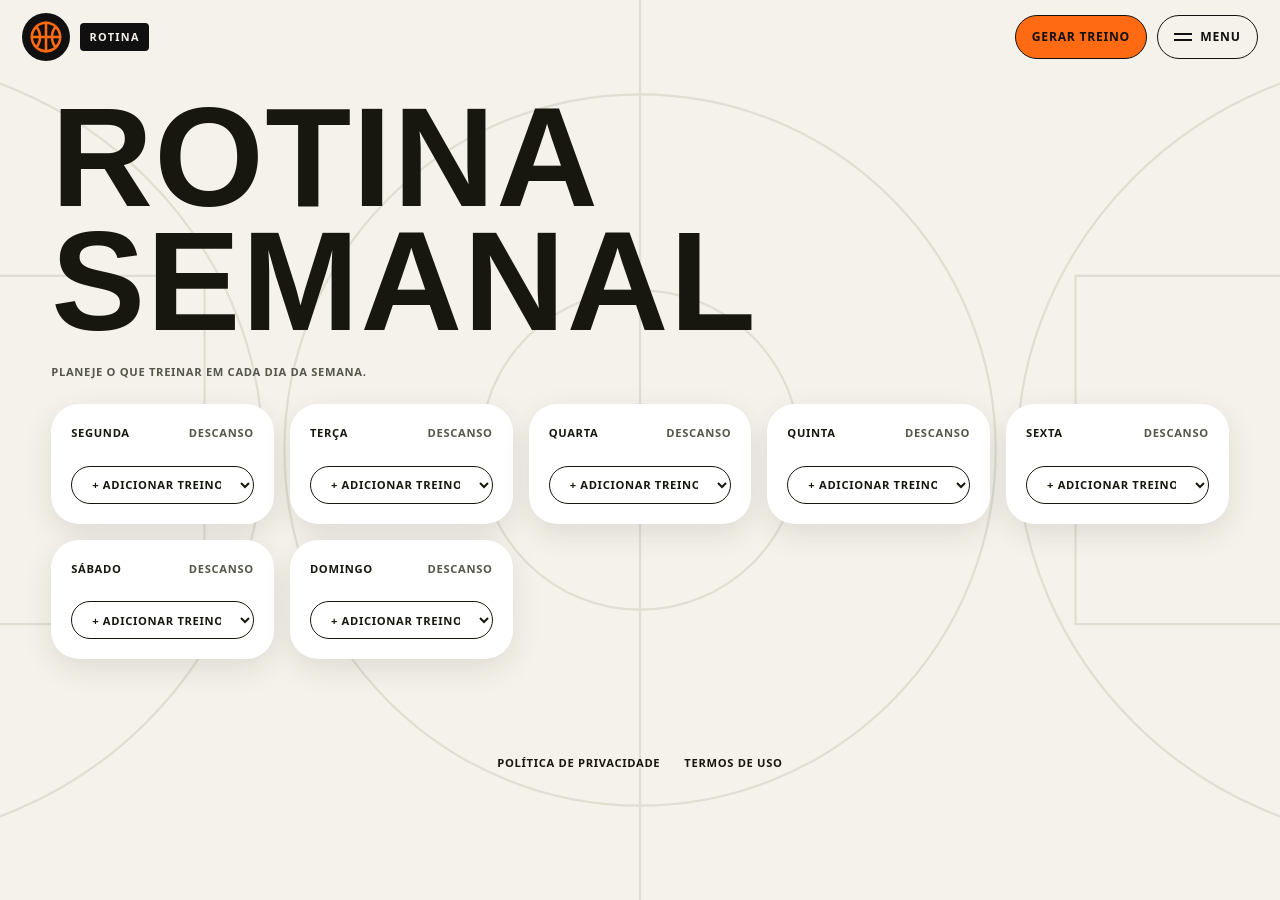
Scenario: Rotina semanal › cria o treino do dia uma só vez, mesmo com a segunda adição antes da primeira terminar de salvar
Select "Lance livre" in the dropdown named "Adicionar treino: Segunda": coordinates (163, 485) [71,466,254,504]
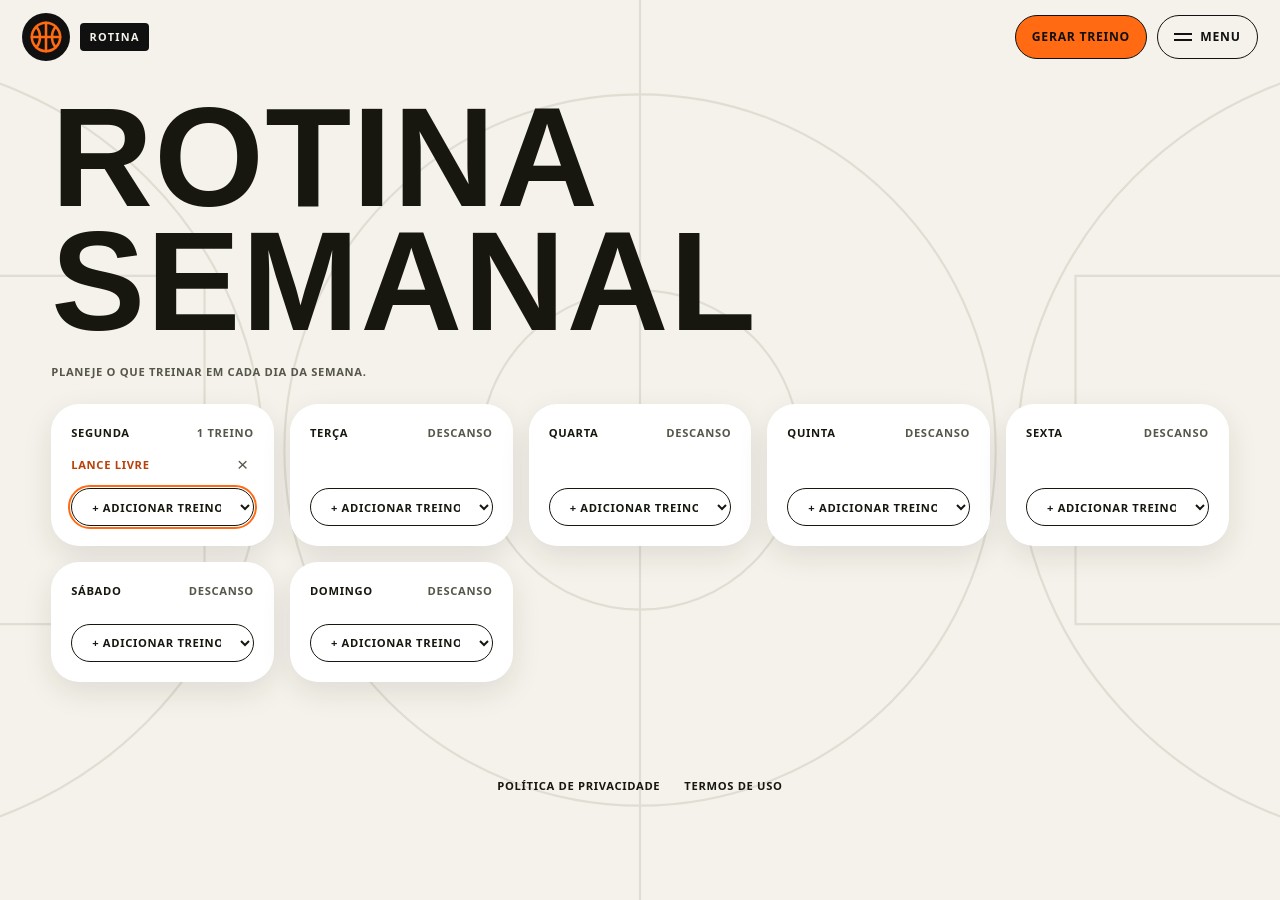
Select "Suicídio" in the dropdown named "Adicionar treino: Segunda": coordinates (163, 507) [71,488,254,526]
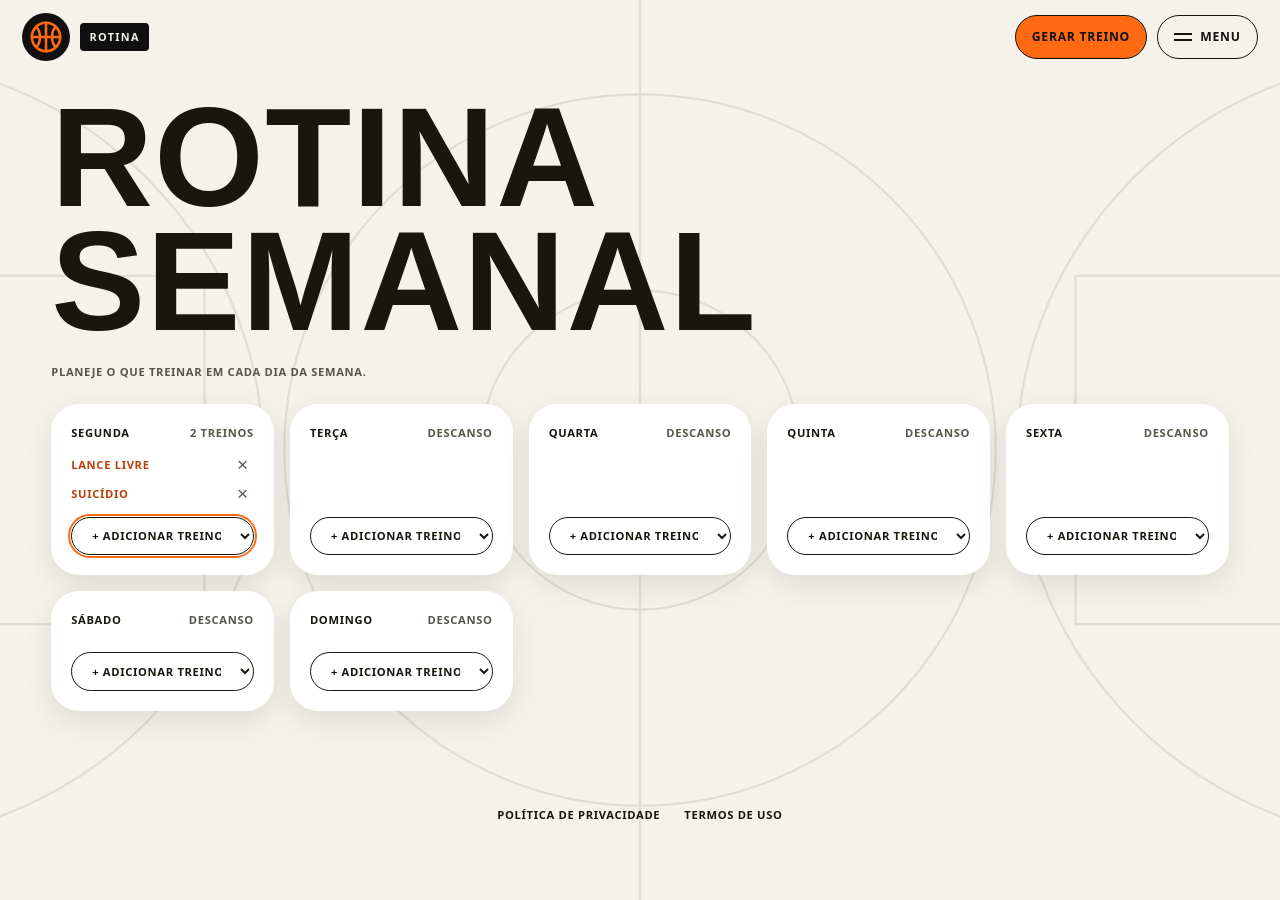
Check: the links read "Lance livre", "Suicídio", in this order, box [71,456,150,474]; [71,485,129,502]
